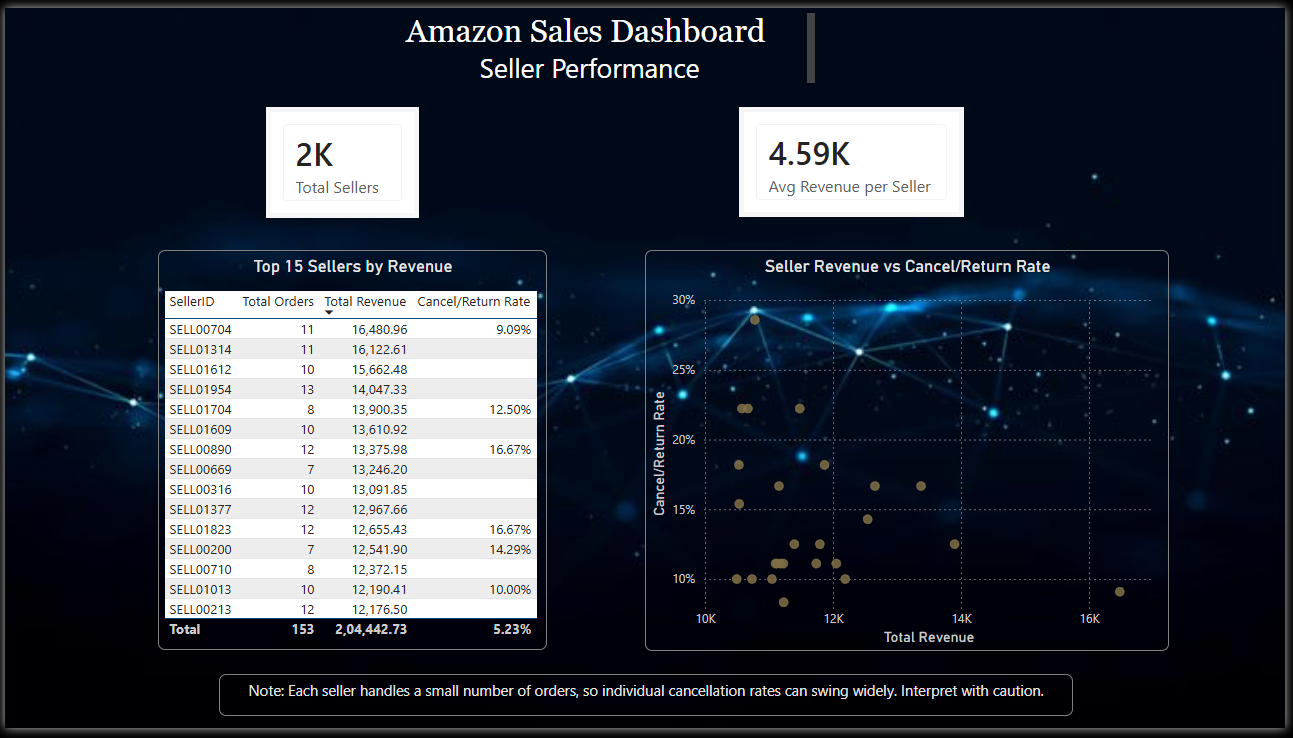

The page's visual inventory and layout, read from the dashboard file:
{"tool":"powerbi","page":{"name":"Seller Performance","canvas":[1280,720],"ordinal":4},"visuals":[{"type":"textbox","box":[362.8,0,452.5,80.6],"z":0},{"type":"cardVisual","fields":{"Data":["amazon_sales_clean.Total Sellers"]},"box":[261.3,98.7,152.2,110.9],"z":1000},{"type":"cardVisual","fields":{"Data":["amazon_sales_clean.Avg Revenue per Seller"]},"box":[734.1,98.7,225.3,110.3],"z":2000},{"type":"tableEx","title":"Top 15 Sellers by Revenue","fields":{"Values":["amazon_sales_clean.SellerID","amazon_sales_clean.Total Orders","amazon_sales_clean.Total Revenue","amazon_sales_clean.Cancel/Return Rate"]},"box":[153.2,241.9,389,400.1],"z":3000},{"type":"scatterChart","title":"Seller Revenue vs Cancel/Return Rate","fields":{"Category":["amazon_sales_clean.SellerID"],"X":["amazon_sales_clean.Total Revenue"],"Y":["amazon_sales_clean.Cancel/Return Rate"]},"box":[640,241.9,524.1,401.1],"z":4000},{"type":"textbox","box":[213.7,666.2,854.7,41.3],"z":5000}]}

Visuals, with their boxes in screenshot pixels (x1, y1, x2, y2), scaled from the page's 1280x720 canvas onto the 1293x738 screenshot:
textbox: 366/0/824/83
cardVisual - amazon_sales_clean.Total Sellers: 264/101/418/215
cardVisual - amazon_sales_clean.Avg Revenue per Seller: 742/101/969/214
"Top 15 Sellers by Revenue" tableEx: 155/248/548/658
"Seller Revenue vs Cancel/Return Rate" scatterChart: 646/248/1176/659
textbox: 216/683/1079/725
